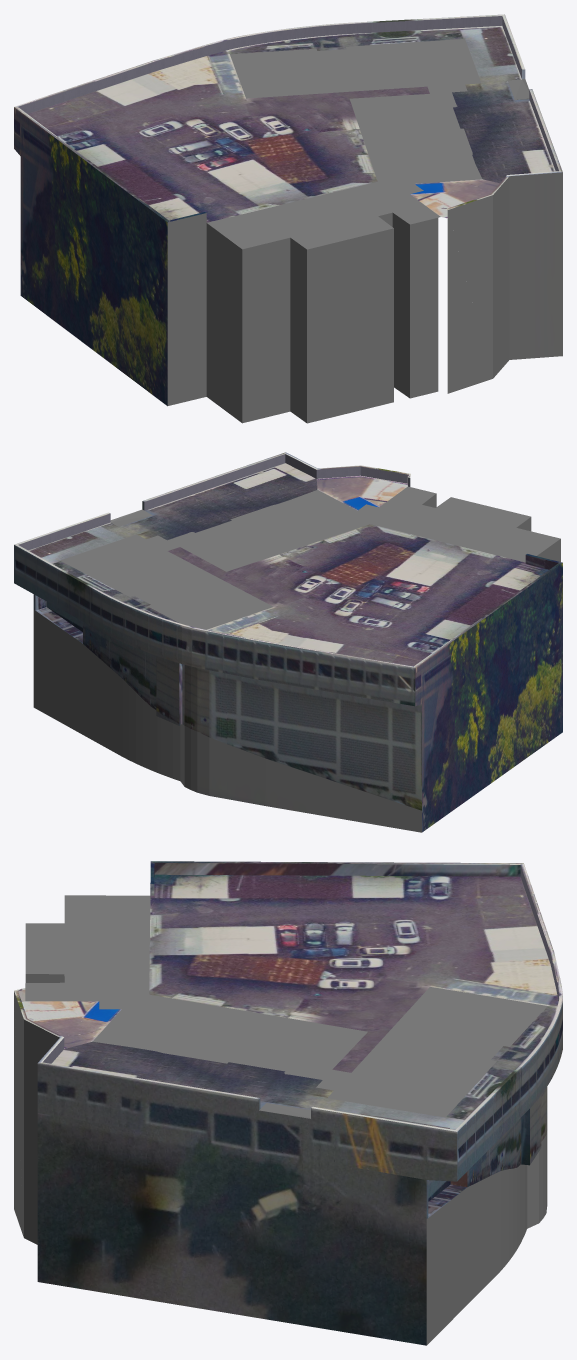
File: input.glb
The picture shows the model from 3 angles, top to bottom: view 1: azimuth 30°, elevation 25°; view 2: azimuth 150°, elevation 25°; view 3: azimuth 270°, elevation 25°; orthographic projection. The views are drawn at different scales.
Parts seen in each view (by area): view 1: B353631509302063A0; view 2: B353631509302063A0; view 3: B353631509302063A0.
Boxes of the visible parts, x1,y1,x2,y2 form: B353631509302063A0: (14,14,562,423); B353631509302063A0: (14,452,562,832); B353631509302063A0: (14,861,562,1345).
Size of the model in its own units: 54.63 by 20.58 by 46.82.
Materials: 1 (1 with a texture image).
